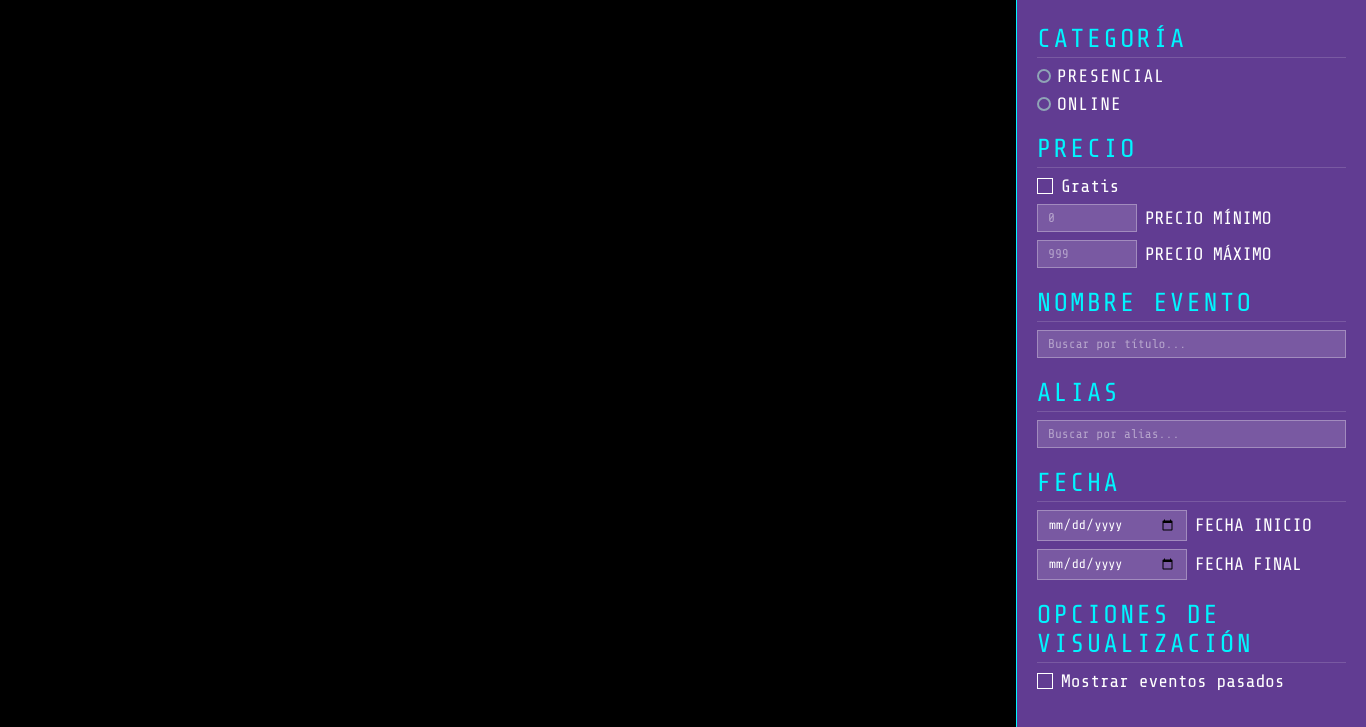
Test case: FilterPanel › muestra 'Limpiar selección' solo cuando hay una categoría seleccionada
Expected: the text "Limpiar selección" is not shown
What coordinates should you click on to do the following:
click the radio button labelled "Presencial"
I would click on:
 (1101, 76)
Its box is x1=1037 y1=66 x2=1165 y2=86.
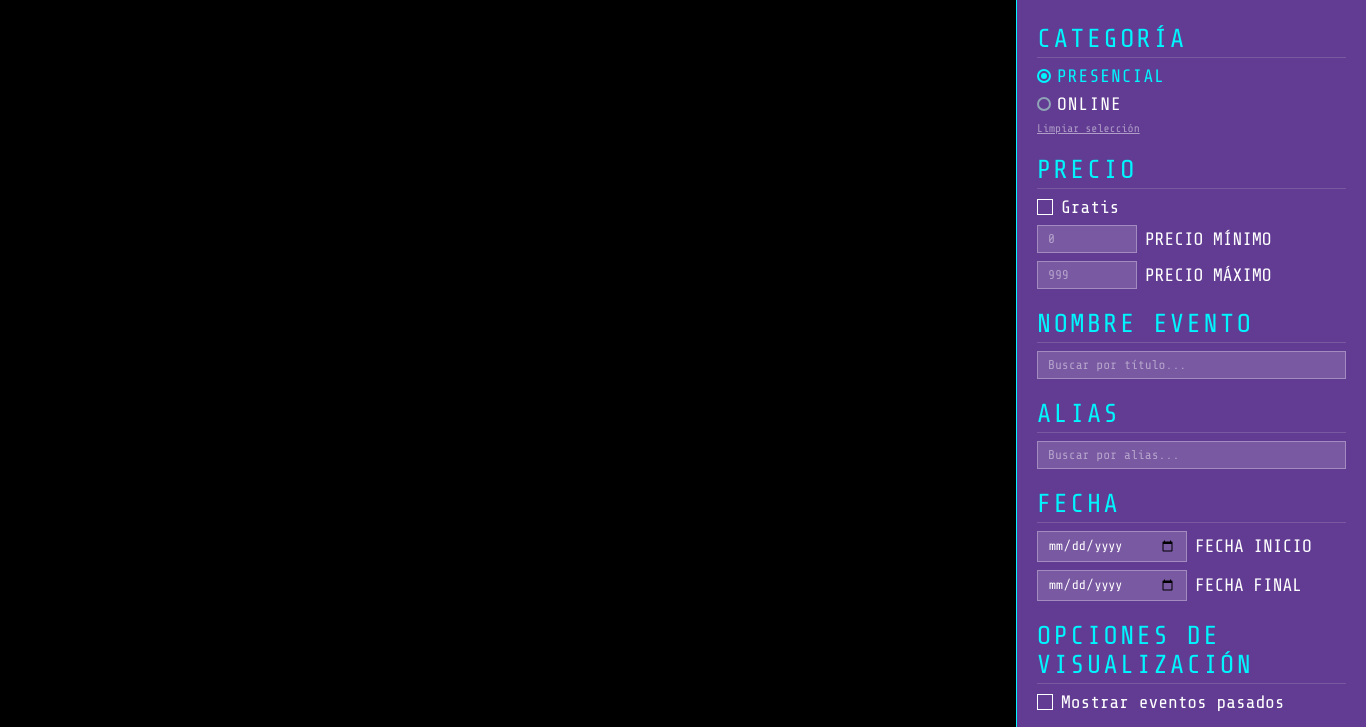
Expected: the button "Limpiar selección" is shown, x1=1037 y1=122 x2=1140 y2=135
